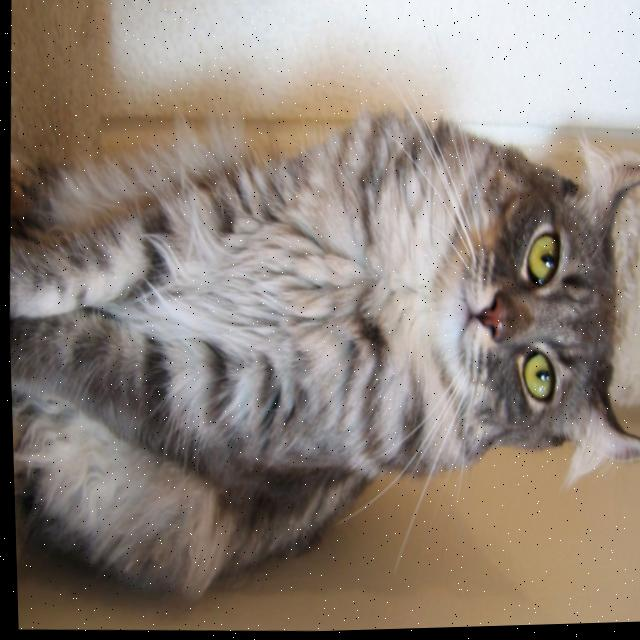American Curl: (2, 83, 640, 626)
